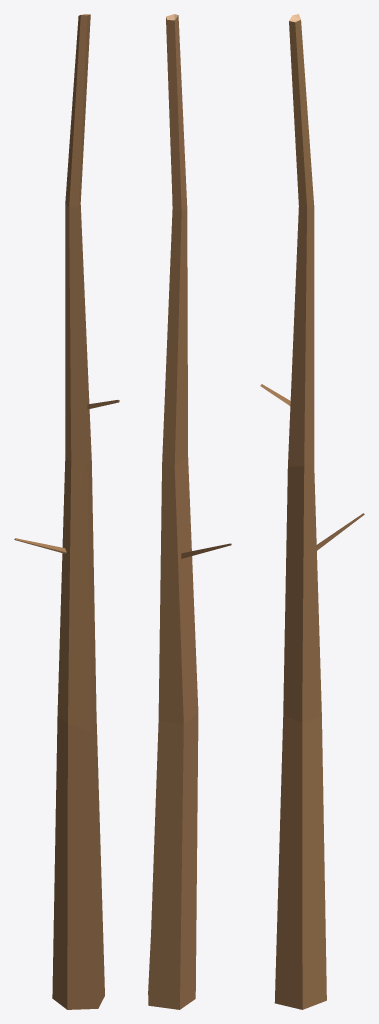
The model's file is Pine_Tree_NoLeaves_crk_l_05.fbx.
The picture shows the model from 3 angles, left to right: view 1: azimuth 90°, elevation 25°; view 2: azimuth 210°, elevation 25°; view 3: azimuth 270°, elevation 25°; orthographic projection.
Parts seen in each view (by area): view 1: Pine_Tree_NoLeaves_crk_l_05; view 2: Pine_Tree_NoLeaves_crk_l_05; view 3: Pine_Tree_NoLeaves_crk_l_05.
Part boxes in pixels (x1,y1,x2,y2): Pine_Tree_NoLeaves_crk_l_05: [14, 14, 119, 1009]; Pine_Tree_NoLeaves_crk_l_05: [148, 14, 231, 1009]; Pine_Tree_NoLeaves_crk_l_05: [260, 14, 364, 1009].
Size of the model in its own units: 77.14 by 1363 by 132.
